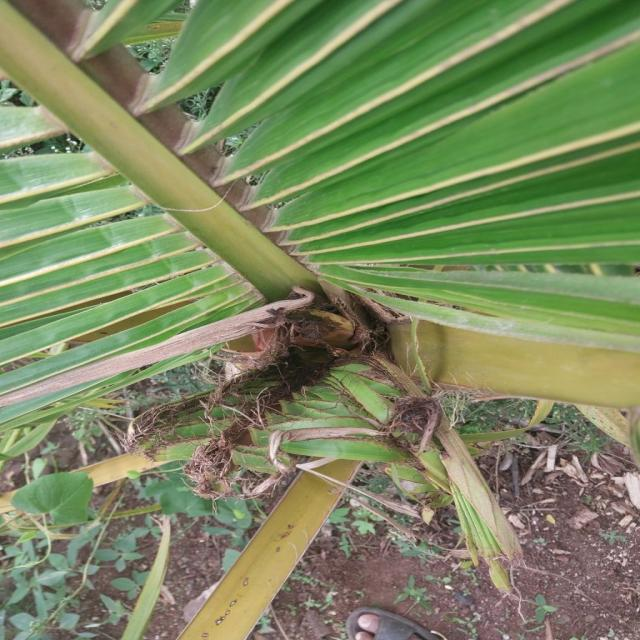bud rot: (127, 289, 518, 570)
